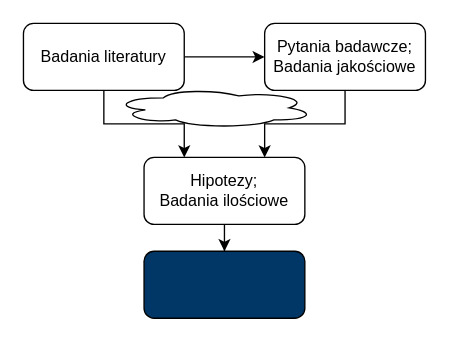
The diagram is 449 pixels wide and 342 high, and some of its shapes have lost their labels. The box of each missing label's shape, as (x1, y1, x2, y2) in pixels:
Identyfikacja miar: (112, 86, 314, 128)
Miary; Metoda doskonalenia: (143, 250, 305, 318)
